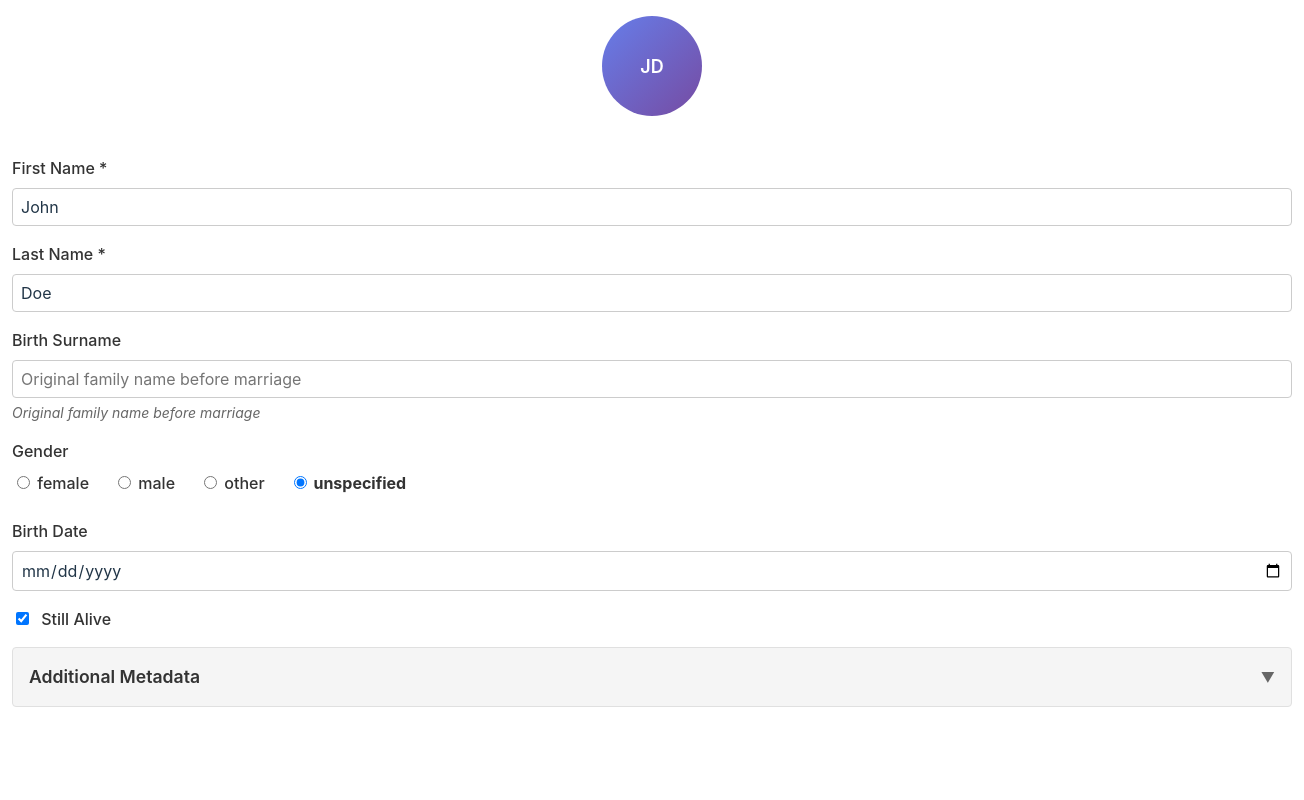
Test: PersonFormFields - Photo Preview Integration › Photo URL field › should allow editing photoUrl
Click the button with class "section-header" at (115, 676), box [12, 647, 1292, 707]
(page scrolled)
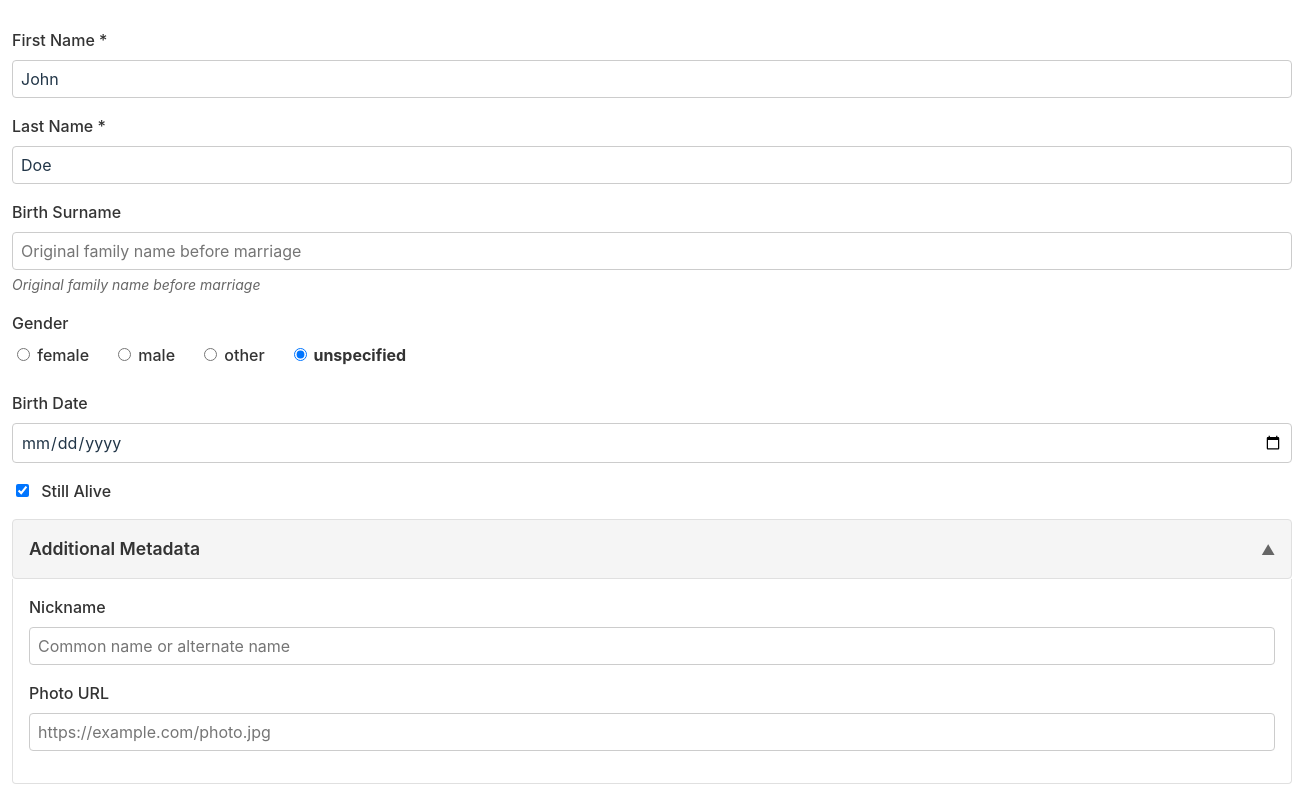
Expected: the field labelled "Photo URL" is enabled, [29, 713, 1275, 751]
